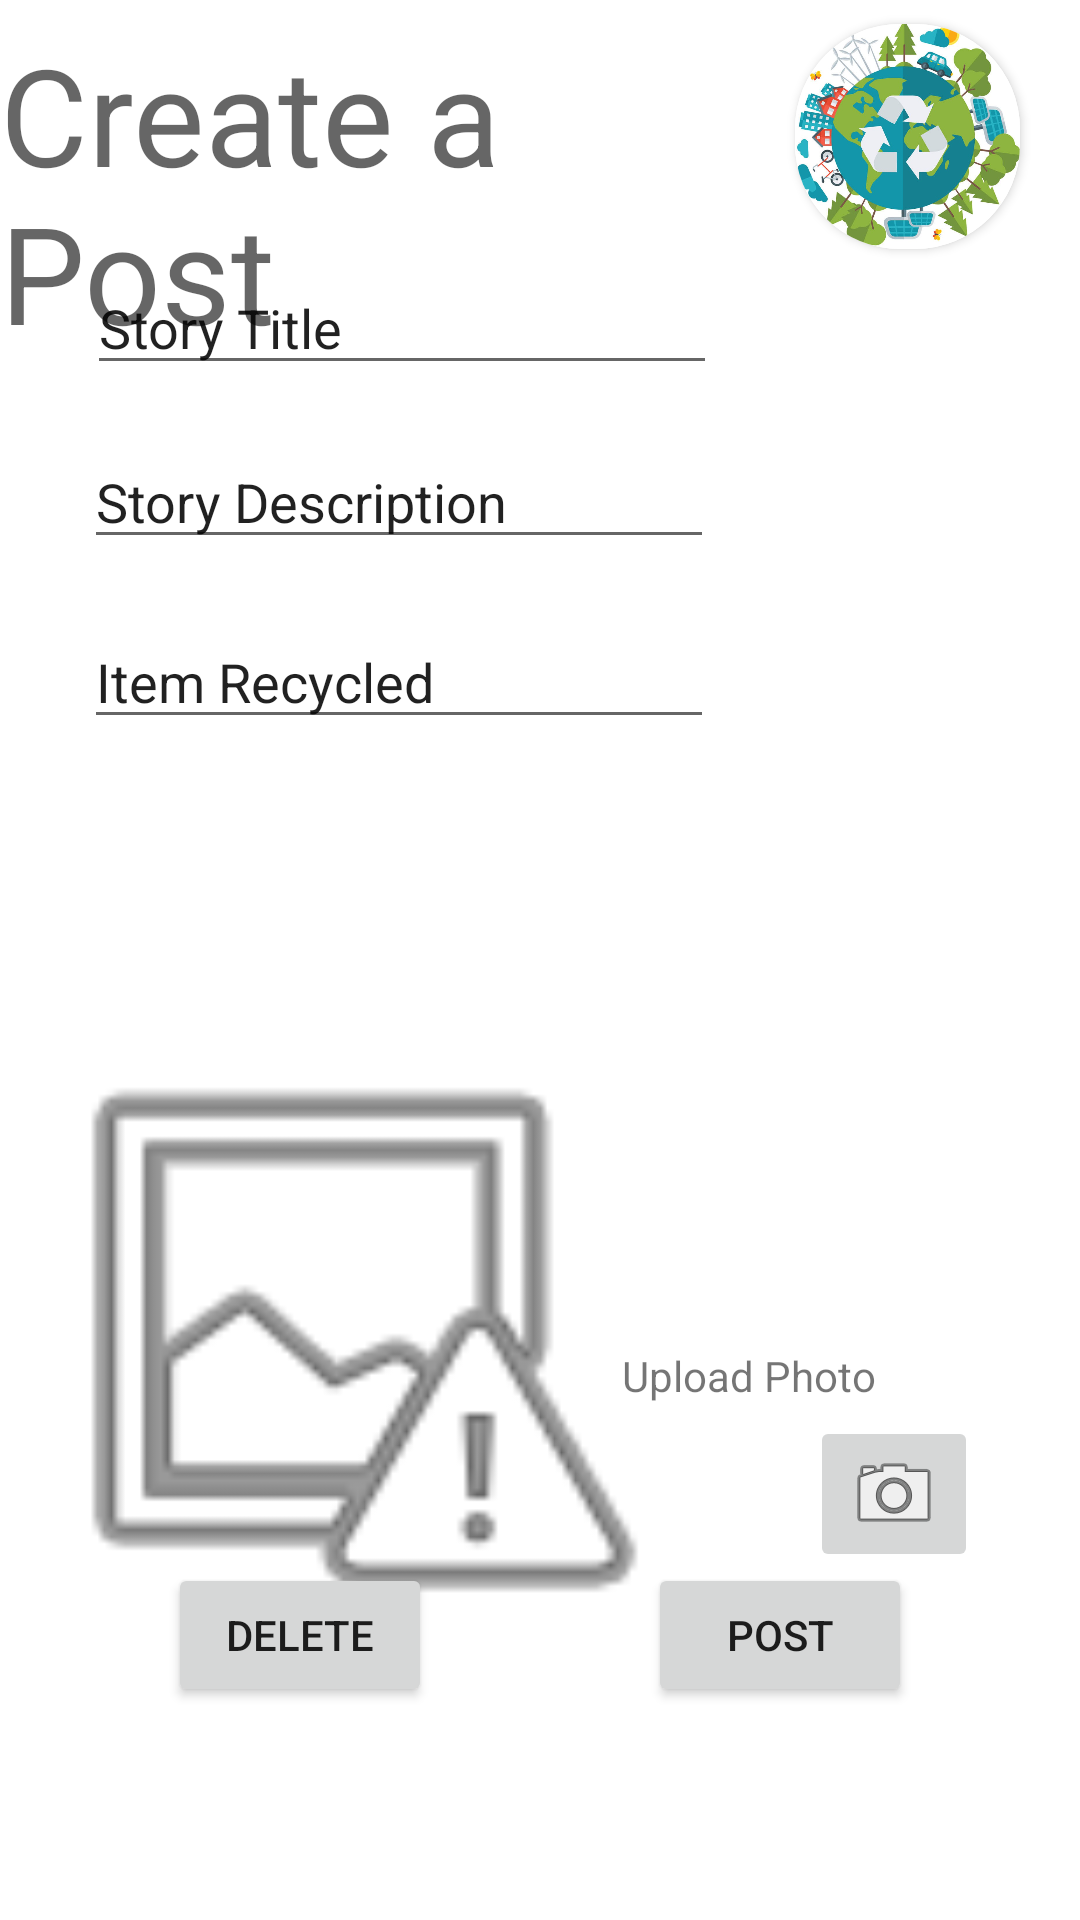

Screen size 1080px×1920px. Icon name, then its center in pixels as (x,y):
camera: (894,1494)
